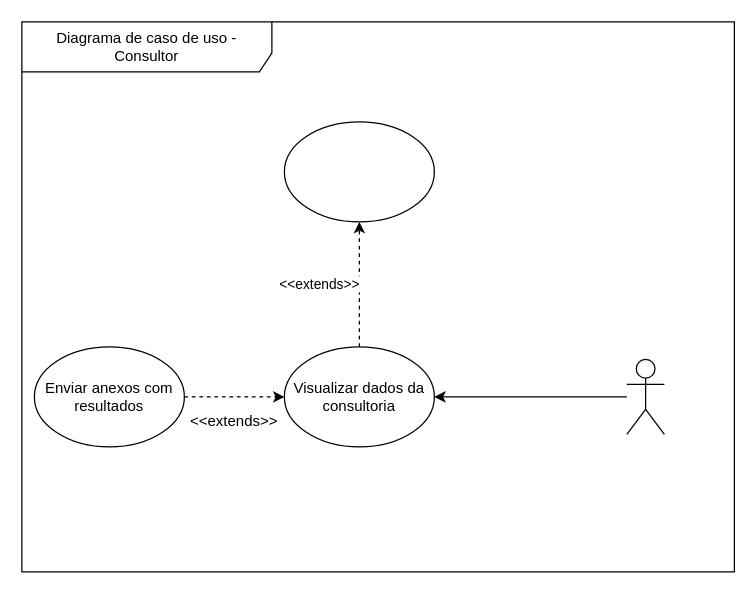
Image size: 756x594. Some labels were removed from this diagram. Each missing label, with the box of its shape:
Baixar anexos: (283, 121, 434, 222)
Consultor: (626, 358, 664, 434)
